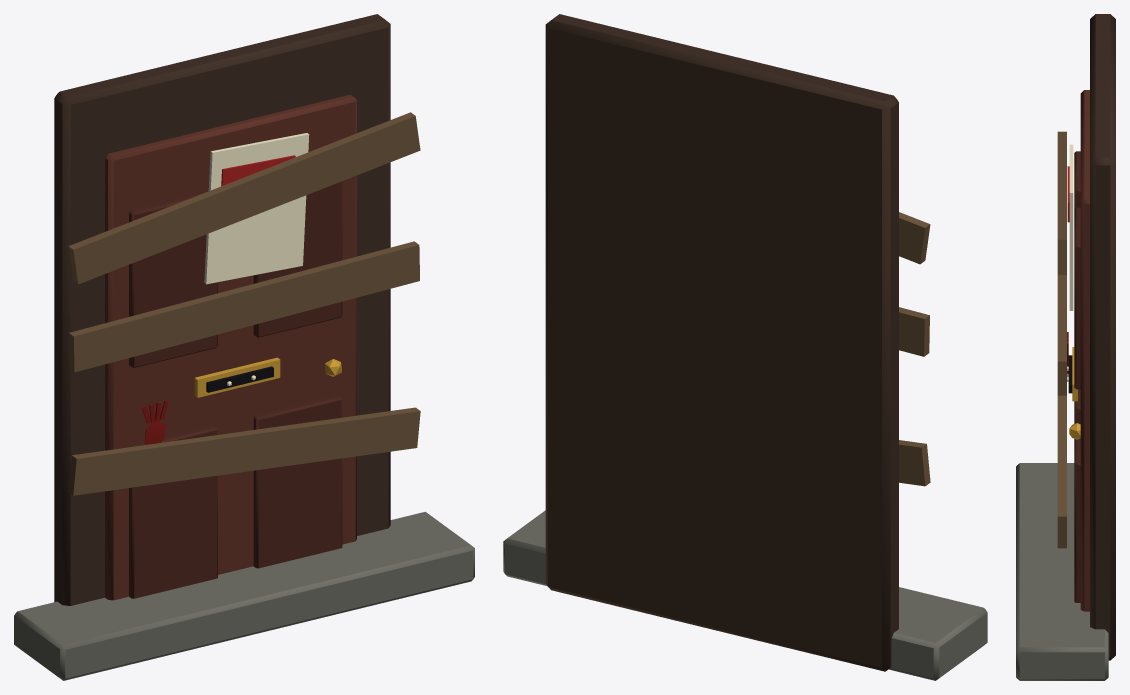
The model's file is door_boarded.glb.
3 views of the same model, side by side, from view 1: azimuth 30°, elevation 25°; view 2: azimuth 150°, elevation 25°; view 3: azimuth 270°, elevation 25° (orthographic). The views are drawn at different scales.
Visible parts, largest first — view 1: door_boarded; view 2: door_boarded; view 3: door_boarded.
Boxes of the visible parts, x1=… form: door_boarded: x1=14, y1=14, x2=474, y2=680; door_boarded: x1=503, y1=14, x2=987, y2=680; door_boarded: x1=1016, y1=14, x2=1115, y2=680.
Size of the model in its own units: 2.4 by 3 by 0.54.
